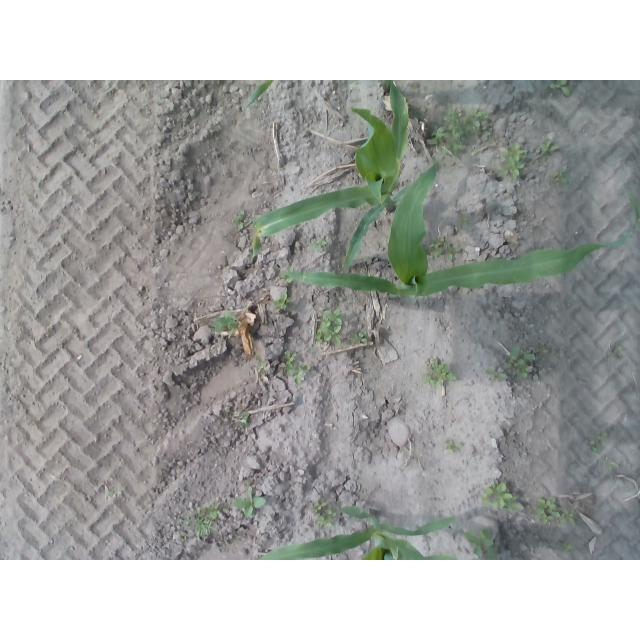Maize: (280, 162, 640, 302), (252, 82, 432, 270), (255, 504, 474, 561)
Weeds: (483, 479, 525, 513), (464, 525, 504, 559), (420, 357, 457, 388), (511, 343, 541, 381), (316, 310, 344, 350), (501, 141, 527, 180), (237, 487, 267, 520), (426, 128, 468, 151), (284, 352, 313, 383), (536, 494, 560, 528), (312, 499, 337, 530), (429, 238, 459, 262), (185, 517, 216, 539), (442, 438, 469, 459), (470, 105, 494, 128), (214, 315, 239, 336), (607, 339, 626, 366), (587, 428, 605, 456), (443, 106, 467, 127), (484, 365, 510, 384), (537, 139, 562, 157), (550, 166, 571, 186), (273, 295, 295, 314), (551, 81, 573, 100), (312, 237, 333, 256), (234, 211, 250, 234), (204, 505, 229, 519), (562, 509, 578, 527), (238, 413, 254, 430), (352, 331, 371, 345), (257, 357, 268, 379), (562, 540, 575, 555)
